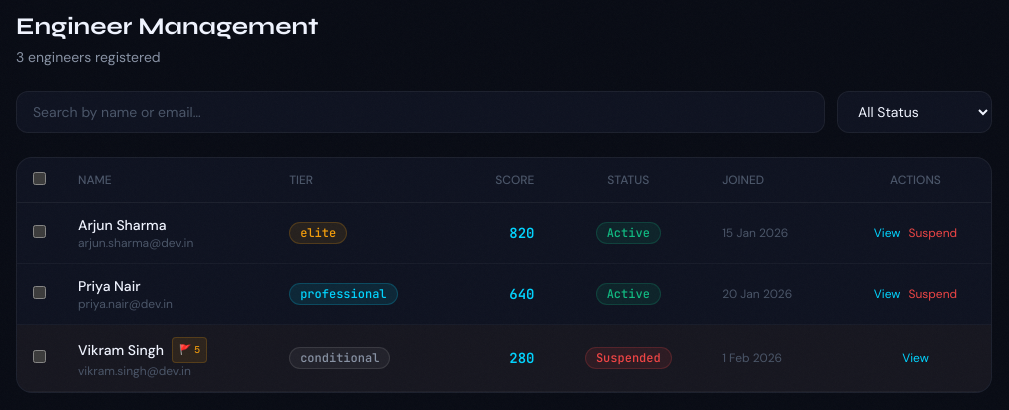
Module 8: Admin Dashboard › Engineer Management › filters engineers by status
Select "Suspended" in the dropdown named "Filter by status": (914, 112) left=837, top=91, right=992, bottom=133
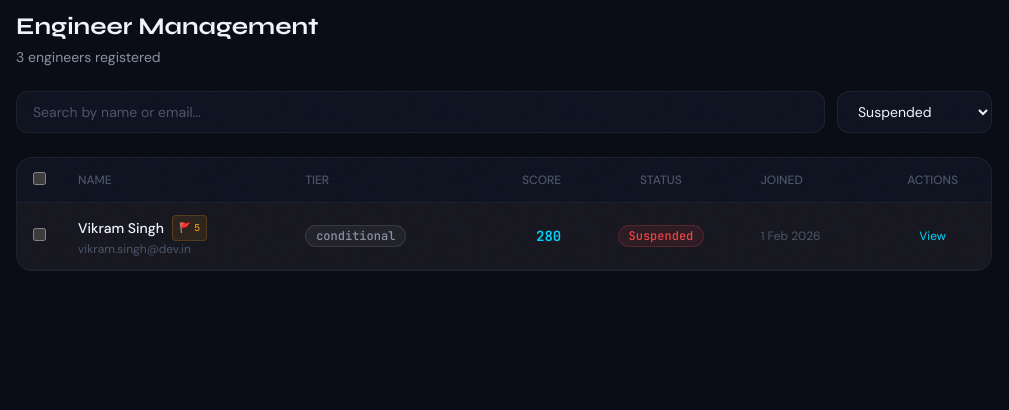
Expected: the text "Vikram Singh" is shown, left=78, top=219, right=164, bottom=237
Expected: the text "Arjun Sharma" is gone
